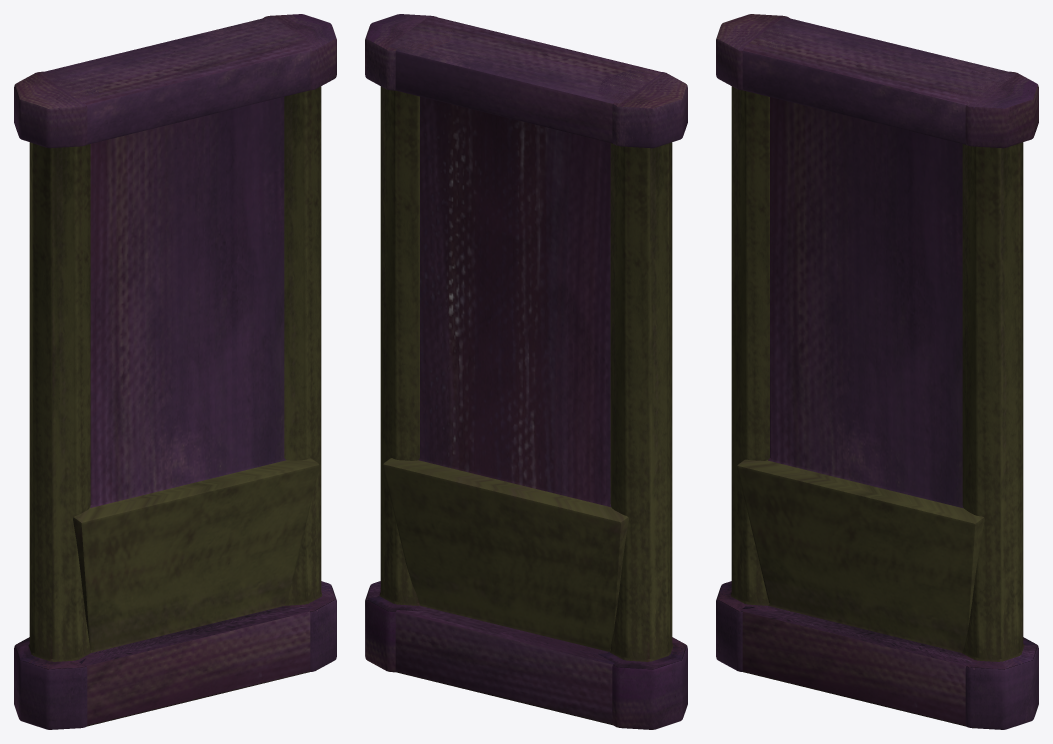
Rendered from MANOR_WALL_1.obj.
3 views of the same model, side by side, from view 1: azimuth 30°, elevation 25°; view 2: azimuth 150°, elevation 25°; view 3: azimuth 330°, elevation 25° (orthographic).
Parts seen in each view (by area): view 1: MANOR_WALL_1.003; view 2: MANOR_WALL_1.003; view 3: MANOR_WALL_1.003.
Boxes of the visible parts, <box> form: MANOR_WALL_1.003: <box>14,14,336,729</box>; MANOR_WALL_1.003: <box>365,14,687,729</box>; MANOR_WALL_1.003: <box>716,14,1038,729</box>.
Size of the model in its own units: 1.57 by 3 by 0.4138.
